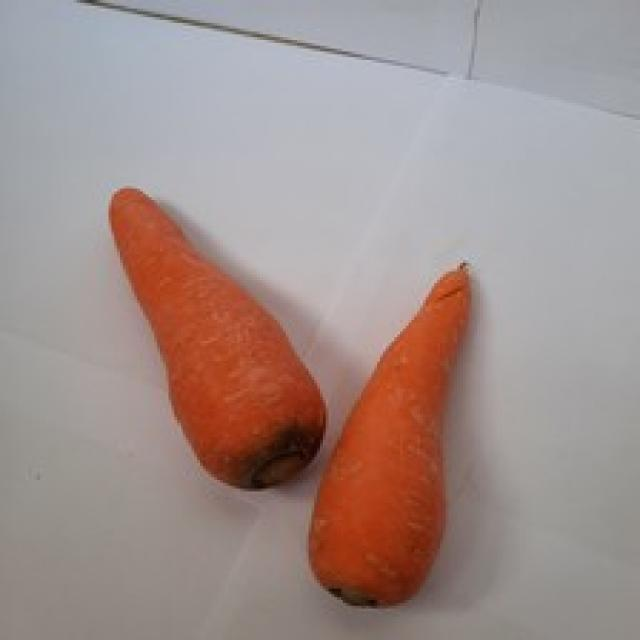carrot: (94, 178, 330, 489), (309, 254, 479, 616)
